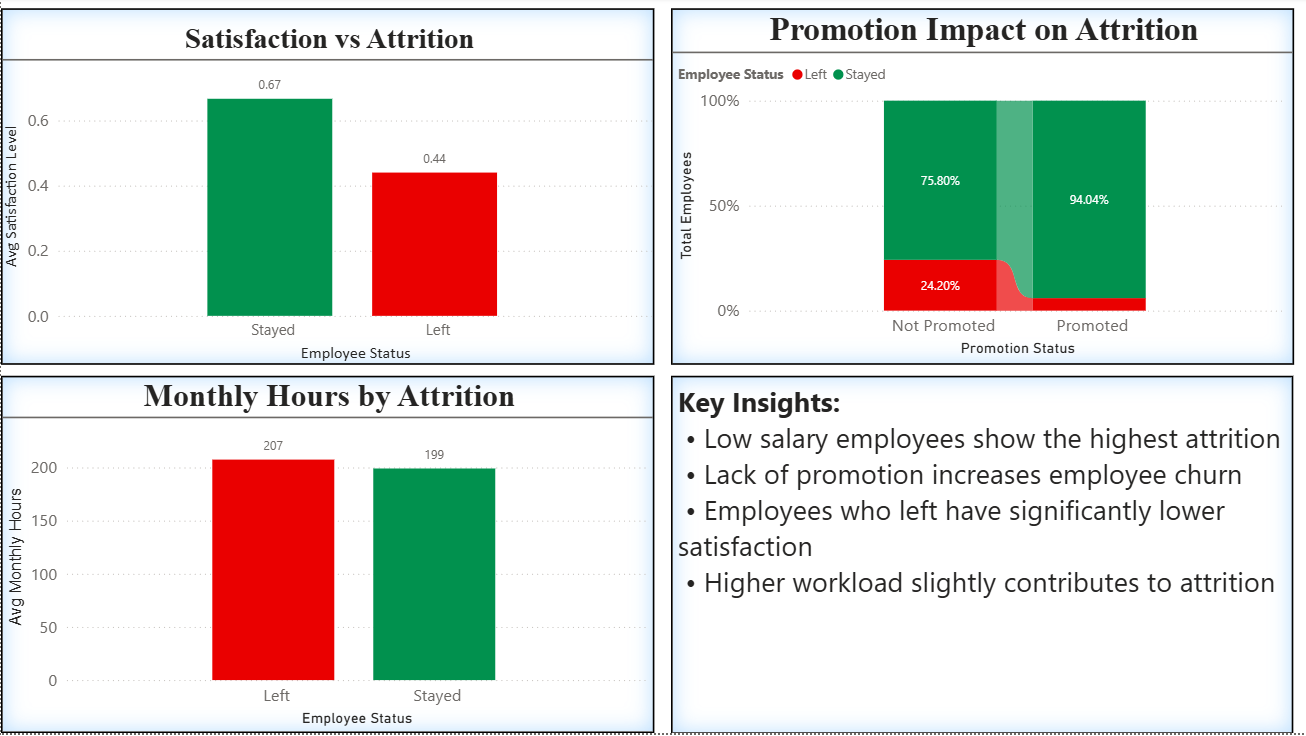

This screenshot's page, from the dashboard's own definition file:
{"tool":"powerbi","page":{"name":"Page 2","canvas":[1280,720],"ordinal":1},"visuals":[{"type":"clusteredColumnChart","title":"Satisfaction vs Attrition","fields":{"Y":["Sheet1.Avg Satisfaction Level"],"Category":["Sheet1.Employee Status"]},"box":[0,11,639.5,348.5],"z":0},{"type":"clusteredColumnChart","title":"Monthly Hours by Attrition","fields":{"Category":["Sheet1.Employee Status"],"Y":["Sheet1.Avg Monthly Hours"]},"box":[0,370.5,639.5,349.9],"z":1000},{"type":"hundredPercentStackedColumnChart","title":"Promotion Impact on Attrition","fields":{"Category":["Sheet1.Promotion Status"],"Series":["Sheet1.Employee Status"],"Y":["Sheet1.Total Employees"]},"box":[655.9,11,609.3,348.5],"z":2000},{"type":"textbox","box":[656,370,609,350],"z":3000}]}

Visuals, with their boxes in screenshot pixels (x1, y1, x2, y2), scaled from the page's 1280x720 canvas onto the 1306x736 screenshot:
"Satisfaction vs Attrition" clusteredColumnChart: select_region(0, 11, 652, 367)
"Monthly Hours by Attrition" clusteredColumnChart: select_region(0, 379, 652, 735)
"Promotion Impact on Attrition" hundredPercentStackedColumnChart: select_region(669, 11, 1291, 367)
textbox: select_region(669, 378, 1291, 735)
